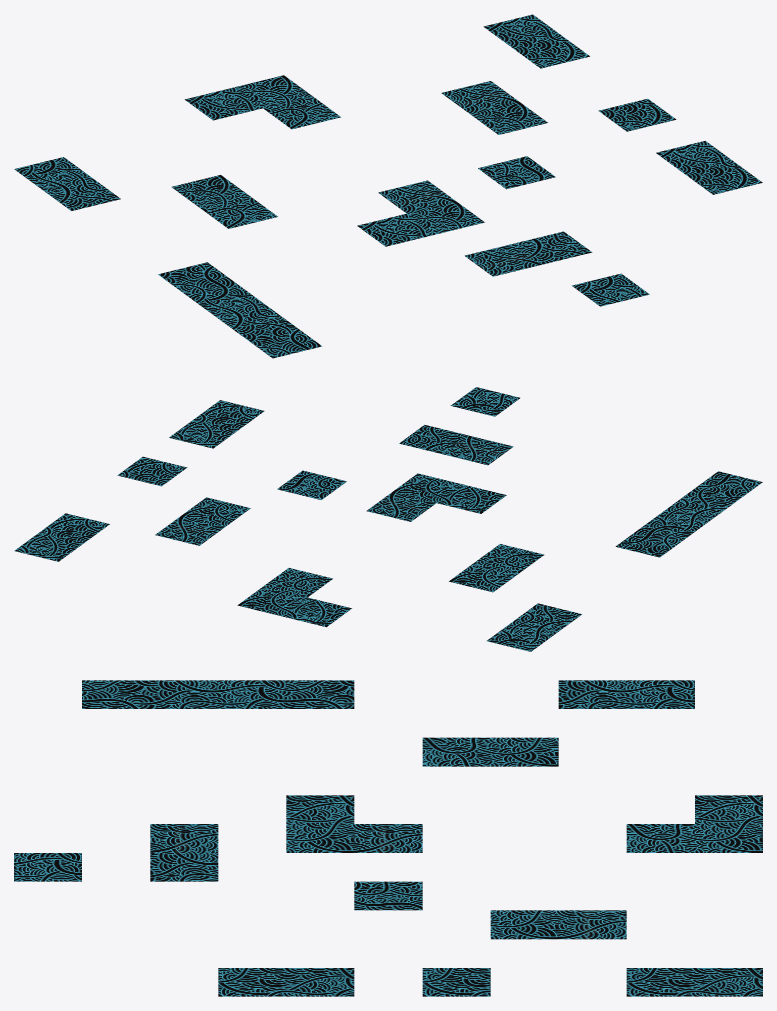
Rendered from FirstLevelPlatformFirst.fbx.
3 views of the same model, one above another, from view 1: azimuth 30°, elevation 25°; view 2: azimuth 150°, elevation 25°; view 3: azimuth 270°, elevation 25° (orthographic). The views are drawn at different scales.
Visible parts, largest first — view 1: PanelFirstLevel; view 2: PanelFirstLevel; view 3: PanelFirstLevel.
Boxes of the visible parts, <box> form: PanelFirstLevel: <box>14,14,762,358</box>; PanelFirstLevel: <box>14,387,762,651</box>; PanelFirstLevel: <box>14,680,762,996</box>.
Size of the model in its own units: 2200 by 0.000358 by 2200.
